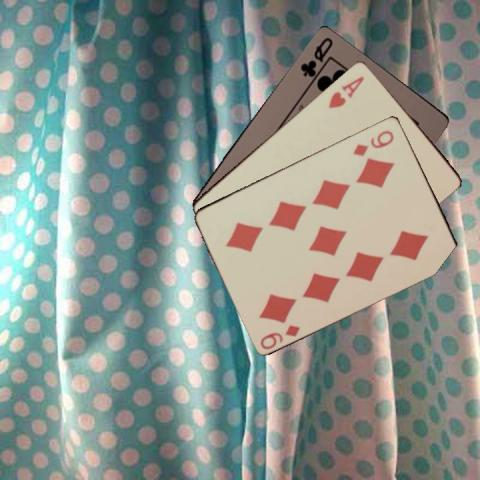9d: (349, 127, 396, 157), (257, 321, 302, 351)
Ah: (325, 73, 366, 109)
Qc: (297, 34, 335, 78)
